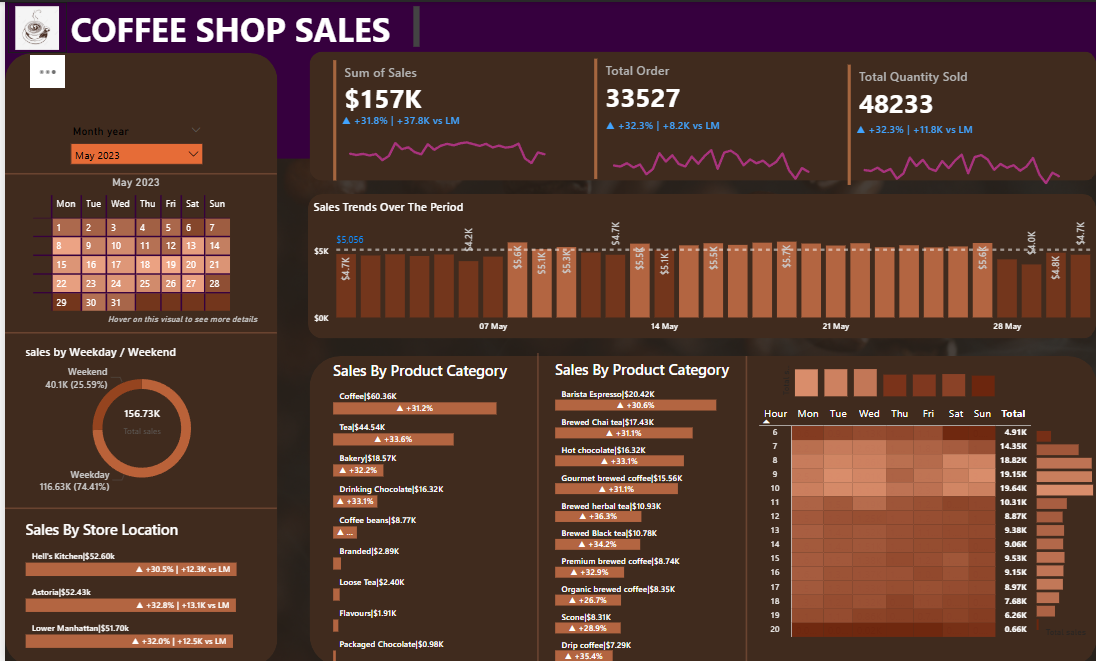

This screenshot's page, from the dashboard's own definition file:
{"tool":"powerbi","page":{"name":"Page 1","canvas":[1400,850],"ordinal":0},"visuals":[{"type":"shape","box":[0,0,1399.3,200.5],"z":0},{"type":"shape","box":[0,66,348.8,784.8],"z":1000},{"type":"shape","box":[390.7,64.1,1008.7,165.4],"z":2000},{"type":"textbox","box":[78.1,0,456.7,64.5],"z":3000},{"type":"cardVisual","fields":{"Data":["Transactions.Total Order"]},"box":[748.7,66.7,290.3,164.7],"z":4000,"group":"g2"},{"type":"cardVisual","fields":{"Data":["Sum(Transactions.Sales)"]},"box":[414.8,69.9,289.9,164.7],"z":4000,"group":"g1"},{"type":"cardVisual","fields":{"Data":["Transactions.Tottal Quantity Sold"]},"box":[1073.6,74.1,290.3,164.7],"z":4000,"group":"g3"},{"type":"slicer","fields":{"Values":["Date Table.Month year"]},"box":[78.1,157.9,180,52.6],"z":4000},{"type":"group","id":"g1","title":"Group 1","box":[414.8,69.9,290.3,164.7],"z":5000},{"type":"group","id":"g2","title":"Group 1","box":[748.7,66.7,293.5,166.2],"z":6000},{"type":"lineChart","fields":{"Category":["Date Table.Date.Variation.Date Hierarchy.Year","Date Table.Date.Variation.Date Hierarchy.Quarter","Date Table.Date.Variation.Date Hierarchy.Month","Date Table.Date.Variation.Date Hierarchy.Day"],"Y":["Transactions.Total sales"]},"box":[426.2,143.4,278.9,84.7],"z":6000,"group":"g1"},{"type":"lineChart","fields":{"Category":["Date Table.Date.Variation.Date Hierarchy.Year","Date Table.Date.Variation.Date Hierarchy.Quarter","Date Table.Date.Variation.Date Hierarchy.Month","Date Table.Date.Variation.Date Hierarchy.Day"],"Y":["Transactions.Total Order"]},"box":[763.3,148.2,278.9,84.7],"z":6000,"group":"g2"},{"type":"lineChart","fields":{"Category":["Date Table.Date.Variation.Date Hierarchy.Year","Date Table.Date.Variation.Date Hierarchy.Quarter","Date Table.Date.Variation.Date Hierarchy.Month","Date Table.Date.Variation.Date Hierarchy.Day"],"Y":["Transactions.Total Order"]},"box":[1084.4,152.7,278.9,84.7],"z":6000,"group":"g3"},{"type":"group","id":"g3","title":"Group 1","box":[1073.6,74.1,290.3,164.7],"z":7000},{"type":"pivotTable","fields":{"Columns":["Date Table.Day Name"],"Values":["Min(Date Table.Day Number)"],"Rows":["Date Table.Week Number"]},"box":[30.6,242.8,288.6,181.7],"z":8000},{"type":"card","fields":{"Values":["Min(Date Table.Month year)"]},"box":[105.3,217.3,123.9,28.9],"z":9000},{"type":"card","fields":{"Values":["Transactions.Table Foot"]},"box":[105.3,392.2,242.8,32.3],"z":10000},{"type":"shape","box":[0,205.4,348,28.9],"z":11000},{"type":"shape","box":[0,409.2,348,28.9],"z":12000},{"type":"donutChart","title":" sales by Weekday / Weekend","fields":{"Category":["Date Table.Weekday / Weekend"],"Y":["Transactions.Total sales"]},"box":[20.4,438,307.3,195.2],"z":13000},{"type":"card","fields":{"Values":["Transactions.Total sales"]},"box":[120.5,511,108.7,49.2],"z":14000},{"type":"shape","box":[0,633.3,348,28.9],"z":15000},{"type":"clusteredBarChart","title":"Sales By Store Location","fields":{"Category":["Transactions.store_location"],"Y":["Transactions.Placeholder","Transactions.Total sales"]},"box":[20.4,662.1,307.3,171.5],"z":16000},{"type":"shape","box":[388.8,246.2,1010.2,185],"z":17000},{"type":"shape","box":[390.5,453.3,1010.2,397.3],"z":18000},{"type":"columnChart","title":"Sales Trends Over The Period","fields":{"Category":["Transactions.transaction_date"],"Y":["Sum(Transactions.Sales)"]},"box":[390.5,251.3,1010.2,180],"z":19000},{"type":"clusteredBarChart","title":"Sales By Product Category","fields":{"Y":["Transactions.Placeholder","Transactions.Total sales"],"Category":["Transactions.product_category"]},"box":[414.3,458.4,249.6,392.2],"z":20000},{"type":"shape","box":[663.8,449.9,35.7,397.3],"z":21000},{"type":"clusteredBarChart","title":"Sales By Product Category","fields":{"Y":["Transactions.Placeholder","Transactions.Total sales"],"Category":["Transactions.product_type"]},"box":[699.5,456.7,249.6,392.2],"z":22000},{"type":"shape","box":[930.4,453.3,35.7,397.3],"z":23000},{"type":"pivotTable","fields":{"Rows":["Transactions.Hour"],"Columns":["Date Table.Day Name"],"Values":["Transactions.Total sales"]},"box":[961,511,370,308],"z":24000},{"type":"barChart","fields":{"Category":["Transactions.Hour"],"Y":["Transactions.Total sales"]},"box":[1315.8,536.5,84.9,281.8],"z":24001},{"type":"columnChart","fields":{"Category":["Date Table.Day Name"],"Y":["Transactions.Total sales"]},"box":[989.8,449.9,283.5,61.1],"z":24002},{"type":"image","box":[3.4,0,74.7,66.2],"z":24003}]}

Visuals, with their boxes in screenshot pixels (x1, y1, x2, y2), scaled from the page's 1400x850 canvas onto the 1096x661 screenshot:
shape: pyautogui.locateOnScreen(0, 0, 1095, 156)
shape: pyautogui.locateOnScreen(0, 51, 273, 660)
shape: pyautogui.locateOnScreen(306, 50, 1095, 178)
textbox: pyautogui.locateOnScreen(61, 0, 419, 50)
cardVisual - Transactions.Total Order: pyautogui.locateOnScreen(586, 52, 813, 180)
cardVisual - Sum(Transactions.Sales): pyautogui.locateOnScreen(325, 54, 552, 182)
cardVisual - Transactions.Tottal Quantity Sold: pyautogui.locateOnScreen(840, 58, 1068, 186)
slicer - Date Table.Month year: pyautogui.locateOnScreen(61, 123, 202, 164)
"Group 1" group: pyautogui.locateOnScreen(325, 54, 552, 182)
"Group 1" group: pyautogui.locateOnScreen(586, 52, 816, 181)
lineChart - Date Table.Date.Variation.Date Hierarchy.Year x Date Table.Date.Variation.Date Hierarchy.Quarter: pyautogui.locateOnScreen(334, 112, 552, 177)
lineChart - Date Table.Date.Variation.Date Hierarchy.Year x Date Table.Date.Variation.Date Hierarchy.Quarter: pyautogui.locateOnScreen(598, 115, 816, 181)
lineChart - Date Table.Date.Variation.Date Hierarchy.Year x Date Table.Date.Variation.Date Hierarchy.Quarter: pyautogui.locateOnScreen(849, 119, 1067, 185)
"Group 1" group: pyautogui.locateOnScreen(840, 58, 1068, 186)
pivotTable - Date Table.Day Name x Min(Date Table.Day Number): pyautogui.locateOnScreen(24, 189, 250, 330)
card - Min(Date Table.Month year): pyautogui.locateOnScreen(82, 169, 179, 191)
card - Transactions.Table Foot: pyautogui.locateOnScreen(82, 305, 273, 330)
shape: pyautogui.locateOnScreen(0, 160, 272, 182)
shape: pyautogui.locateOnScreen(0, 318, 272, 341)
" sales by Weekday / Weekend" donutChart: pyautogui.locateOnScreen(16, 341, 257, 492)
card - Transactions.Total sales: pyautogui.locateOnScreen(94, 397, 179, 436)
shape: pyautogui.locateOnScreen(0, 492, 272, 515)
"Sales By Store Location" clusteredBarChart: pyautogui.locateOnScreen(16, 515, 257, 648)
shape: pyautogui.locateOnScreen(304, 191, 1095, 335)
shape: pyautogui.locateOnScreen(306, 353, 1095, 660)
"Sales Trends Over The Period" columnChart: pyautogui.locateOnScreen(306, 195, 1095, 335)
"Sales By Product Category" clusteredBarChart: pyautogui.locateOnScreen(324, 356, 520, 660)
shape: pyautogui.locateOnScreen(520, 350, 548, 659)
"Sales By Product Category" clusteredBarChart: pyautogui.locateOnScreen(548, 355, 743, 660)
shape: pyautogui.locateOnScreen(728, 353, 756, 660)
pivotTable - Transactions.Hour x Date Table.Day Name: pyautogui.locateOnScreen(752, 397, 1042, 637)
barChart - Transactions.Hour x Transactions.Total sales: pyautogui.locateOnScreen(1030, 417, 1095, 636)
columnChart - Date Table.Day Name x Transactions.Total sales: pyautogui.locateOnScreen(775, 350, 997, 397)
image: pyautogui.locateOnScreen(3, 0, 61, 51)
